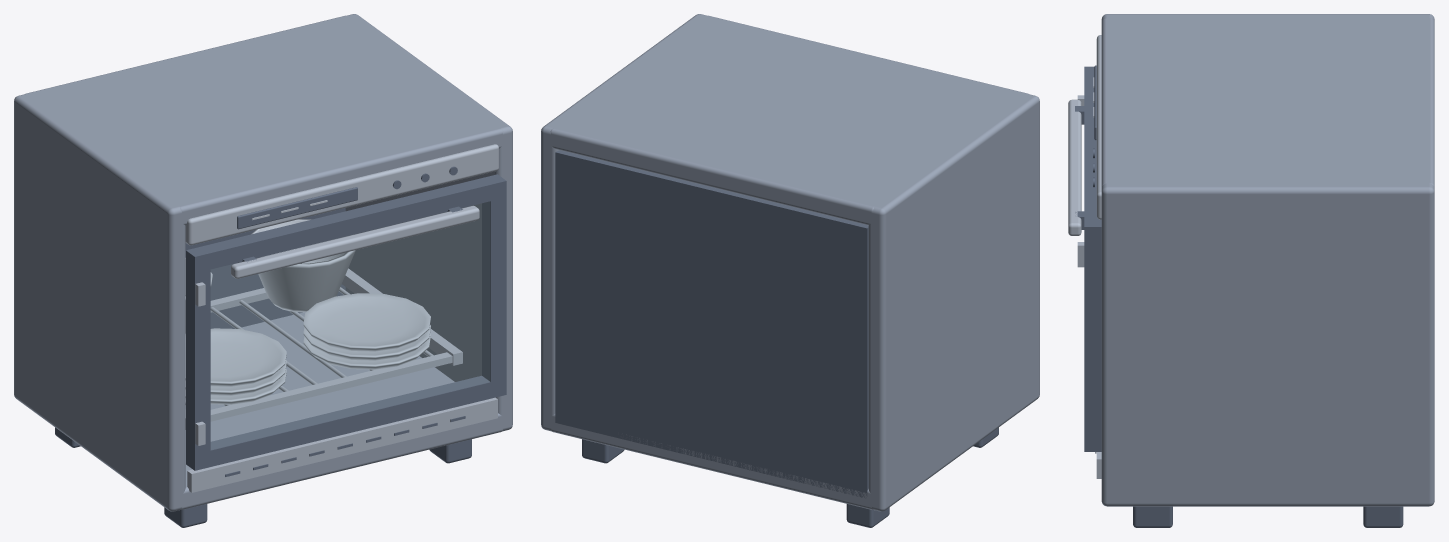
File: disinfection-cabinet.glb
The picture shows the model from 3 angles, left to right: view 1: azimuth 30°, elevation 25°; view 2: azimuth 150°, elevation 25°; view 3: azimuth 270°, elevation 25°; orthographic projection. The views are drawn at different scales.
Visible parts, largest first — view 1: disinfection-cabinet-body, disinfection-cabinet-glass, disinfection-cabinet-dark, disinfection-cabinet-panel, disinfection-cabinet-light; view 2: disinfection-cabinet-body, disinfection-cabinet-dark; view 3: disinfection-cabinet-body, disinfection-cabinet-dark, disinfection-cabinet-panel.
Boxes of the visible parts, bbox=[...] form: disinfection-cabinet-body: bbox=[14, 14, 512, 511]; disinfection-cabinet-glass: bbox=[211, 202, 489, 449]; disinfection-cabinet-dark: bbox=[55, 166, 506, 527]; disinfection-cabinet-panel: bbox=[185, 144, 498, 492]; disinfection-cabinet-light: bbox=[185, 200, 430, 404]; disinfection-cabinet-body: bbox=[541, 14, 1039, 511]; disinfection-cabinet-dark: bbox=[555, 150, 998, 527]; disinfection-cabinet-body: bbox=[1101, 14, 1434, 506]; disinfection-cabinet-dark: bbox=[1075, 65, 1403, 527]; disinfection-cabinet-panel: bbox=[1068, 35, 1101, 478].
Bounding box in the file's own units: 0.44 × 0.41 × 0.385.
